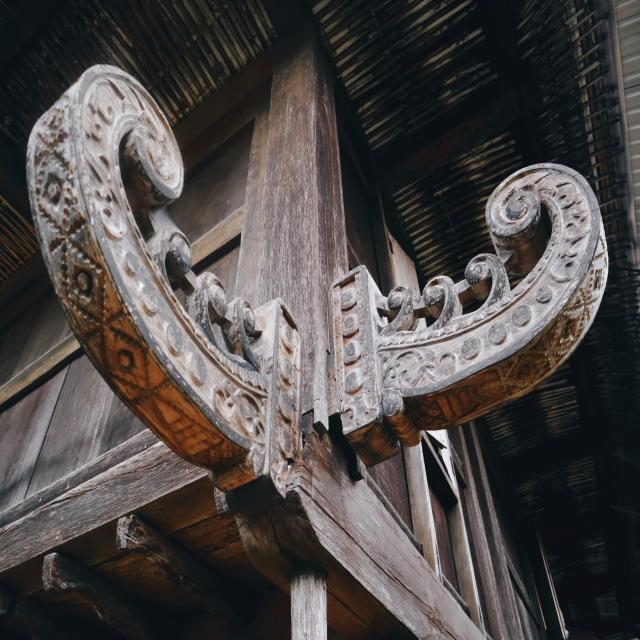Ornamen: (326, 163, 608, 468)
Tembok Bangunan: (0, 16, 546, 640)
